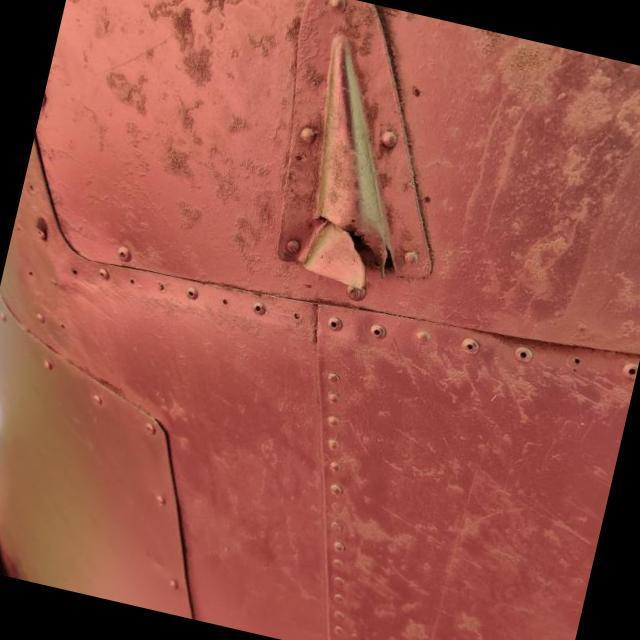Rupture: (273, 183, 422, 318)
